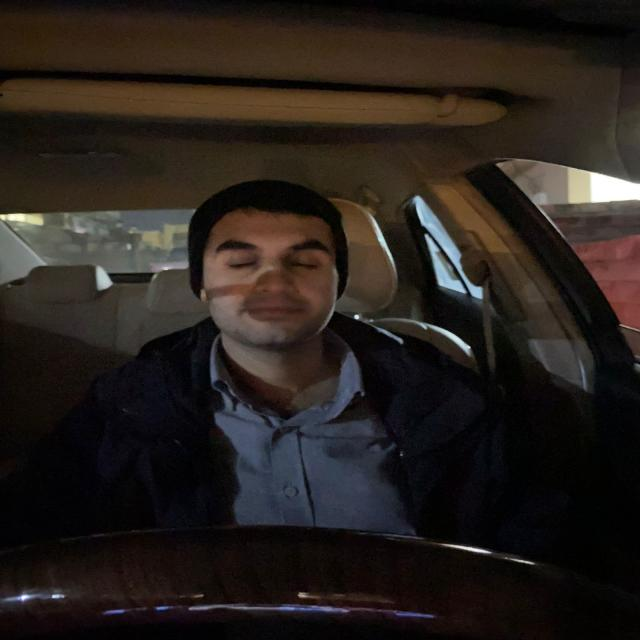drowsy: (192, 175, 352, 347)
